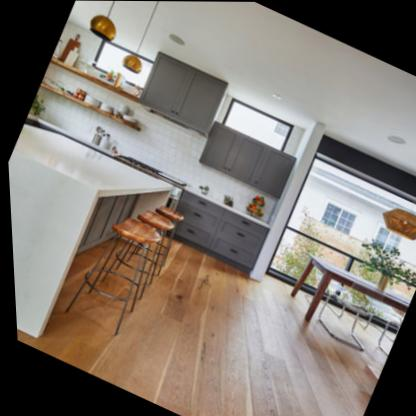Cabinet: (160, 186, 269, 270), (193, 120, 297, 199), (133, 49, 227, 134)
Wooden floor: (85, 246, 374, 416)
